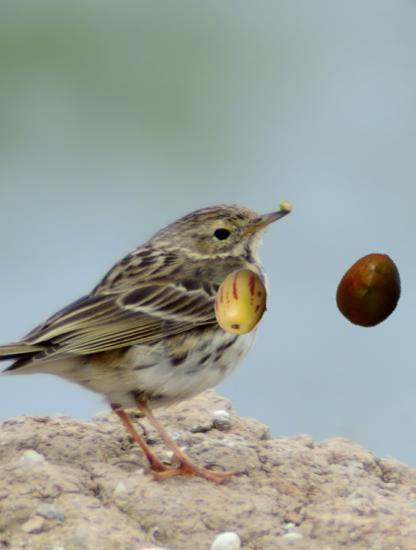Mango: (332, 251, 410, 329)
Pepino: (207, 269, 274, 336)
